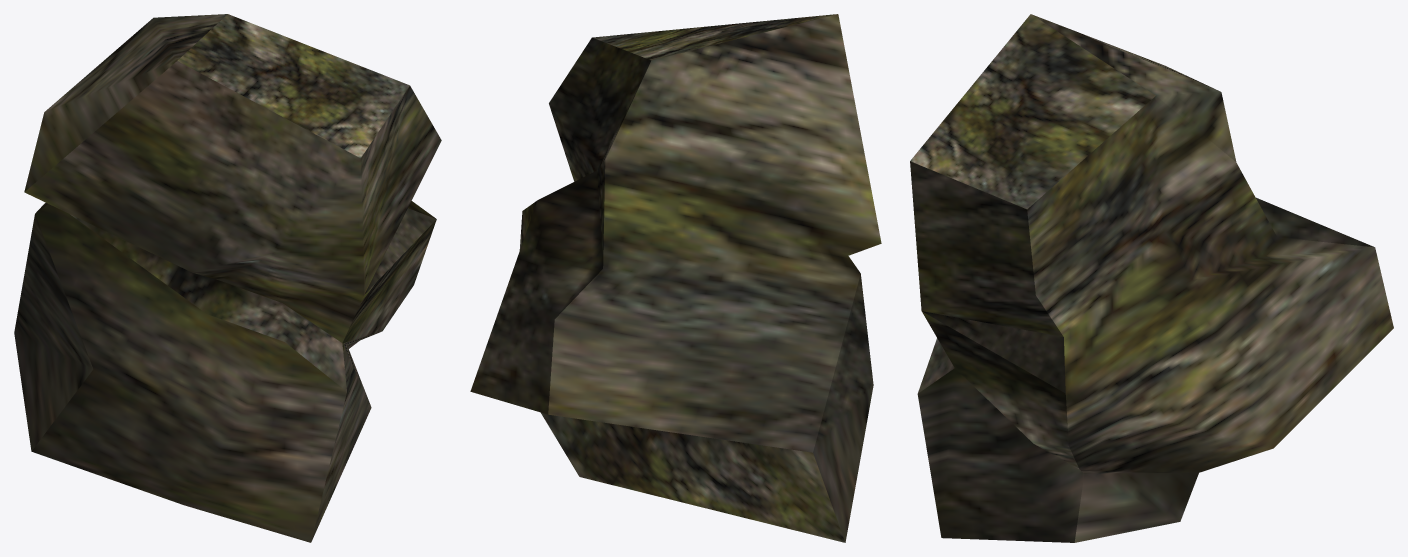
3 views of the same model, side by side, from view 1: azimuth 30°, elevation 25°; view 2: azimuth 150°, elevation 25°; view 3: azimuth 270°, elevation 25° (orthographic). The views are drawn at different scales.
Parts seen in each view (by area): view 1: wj021; view 2: wj021; view 3: wj021.
Part boxes in pixels (x1,y1,x2,y2): wj021: (14,14,441,542); wj021: (470,14,881,542); wj021: (910,14,1393,542).
Bounding box in the file's own units: 295 × 356 × 326.
